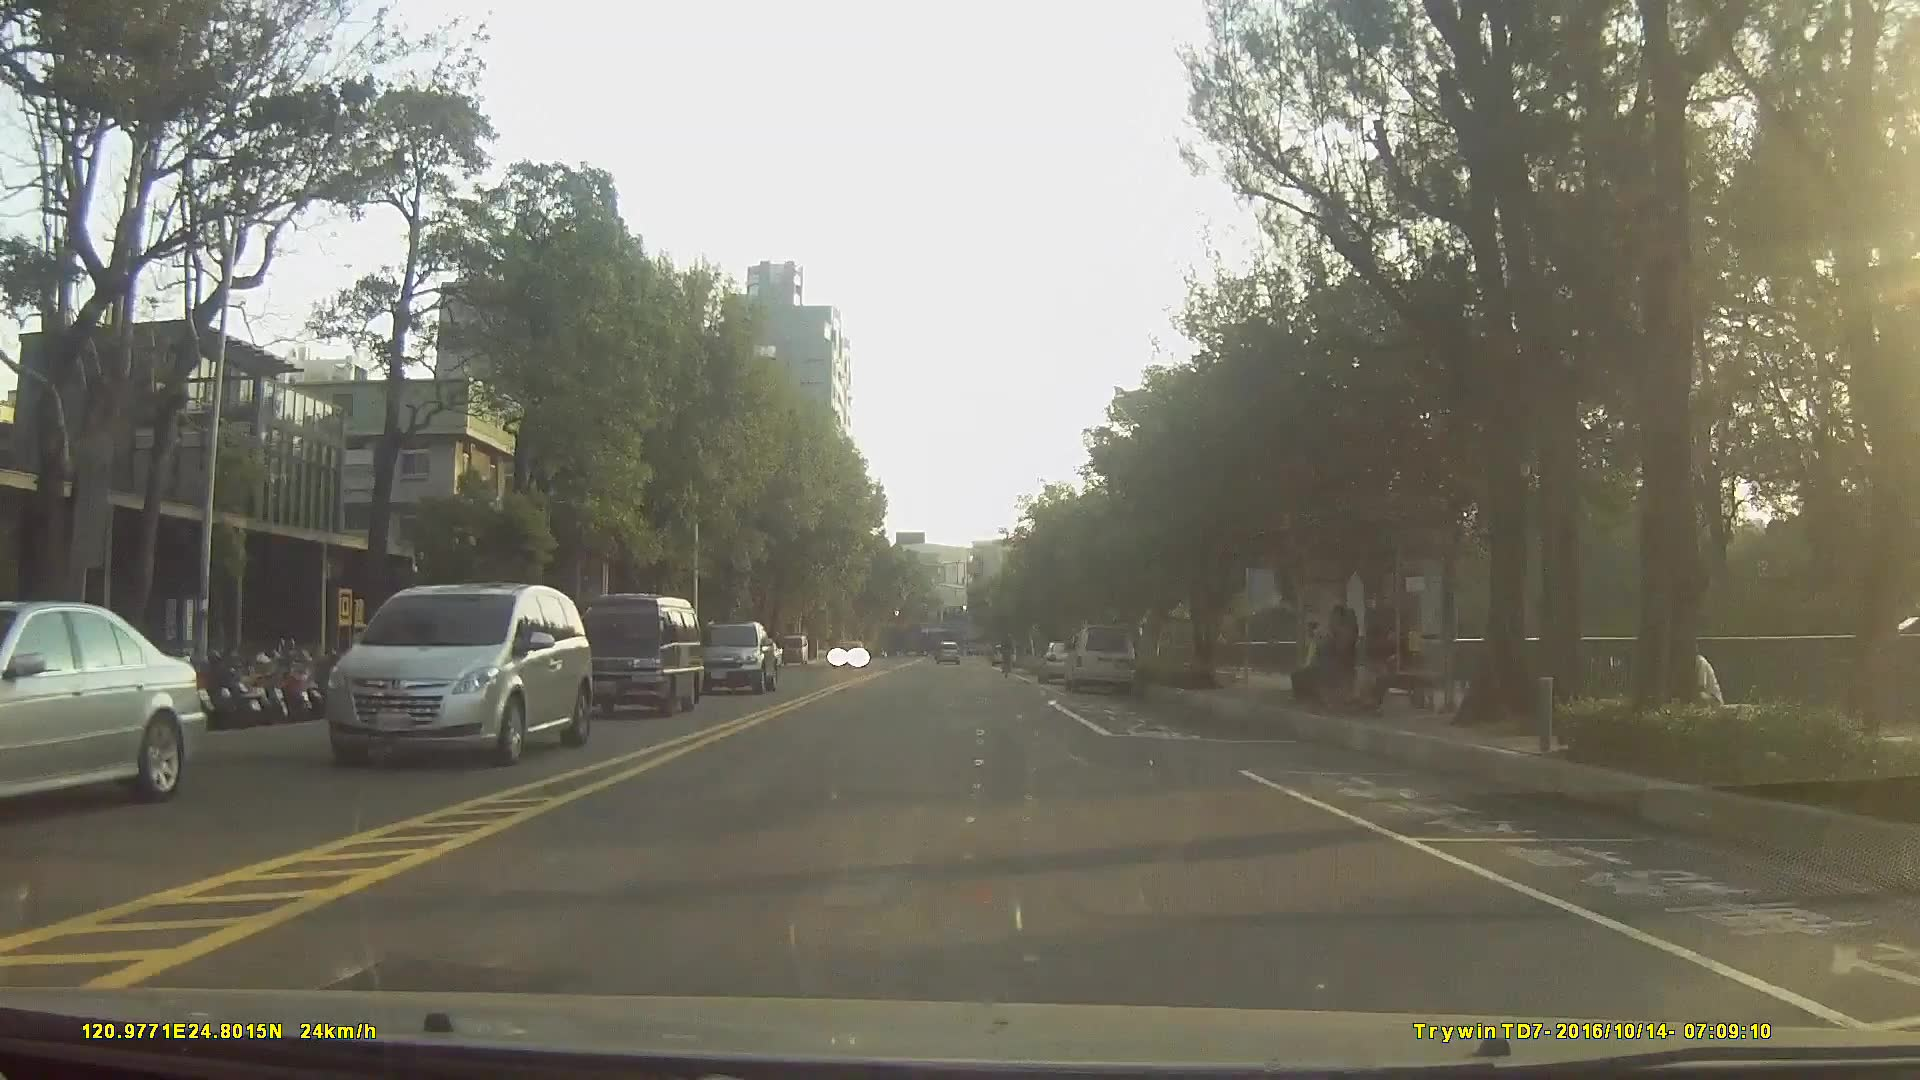pedestrian: (1288, 615, 1330, 705)
rider: (998, 631, 1018, 679)
vehicle: (321, 582, 592, 768), (0, 600, 205, 808), (567, 590, 707, 714), (689, 619, 779, 692), (1061, 620, 1136, 691), (1037, 637, 1087, 681), (827, 636, 865, 667), (775, 632, 809, 666), (936, 640, 963, 666)
